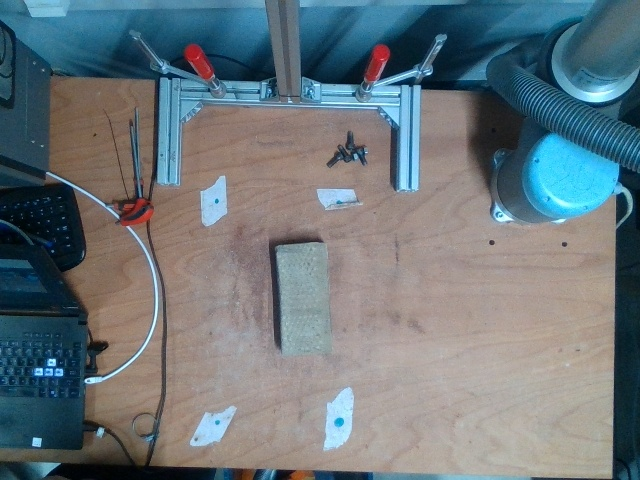brick: (275, 241, 333, 358)
